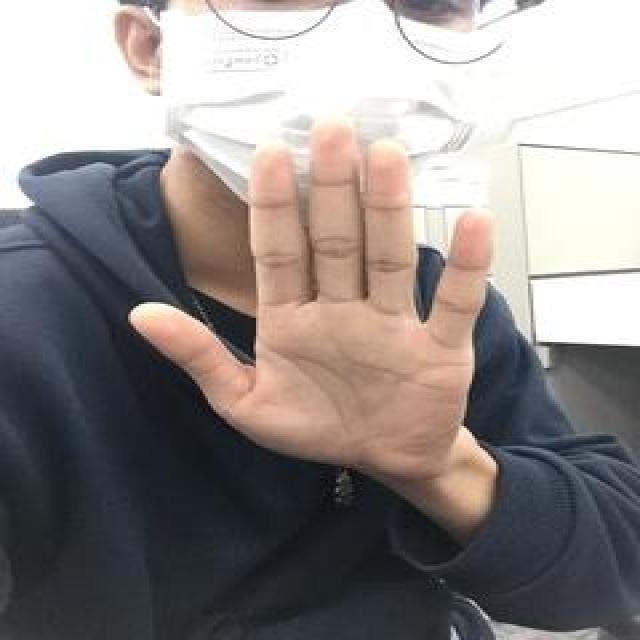hand: (131, 114, 499, 478)
